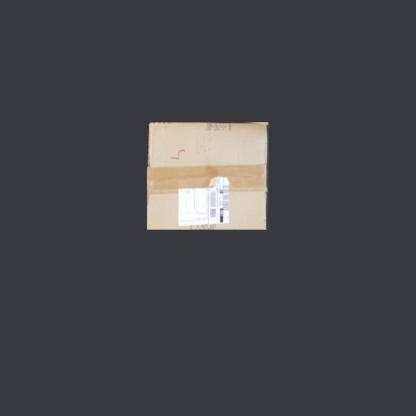package: (150, 122, 267, 230)
